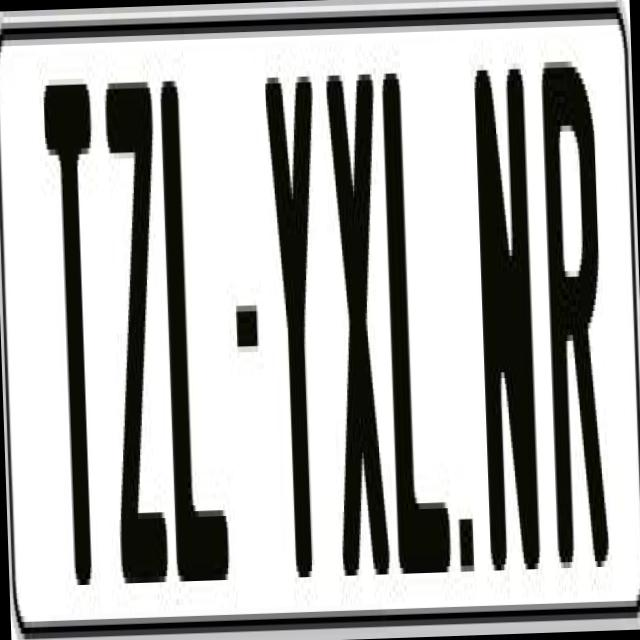L: (158, 62, 232, 587), (379, 59, 456, 562)
N: (470, 51, 538, 564)
R: (541, 42, 613, 574)
T: (41, 66, 114, 603)
X: (323, 74, 391, 586)
Y: (260, 70, 326, 601)
Z: (103, 70, 174, 590)
